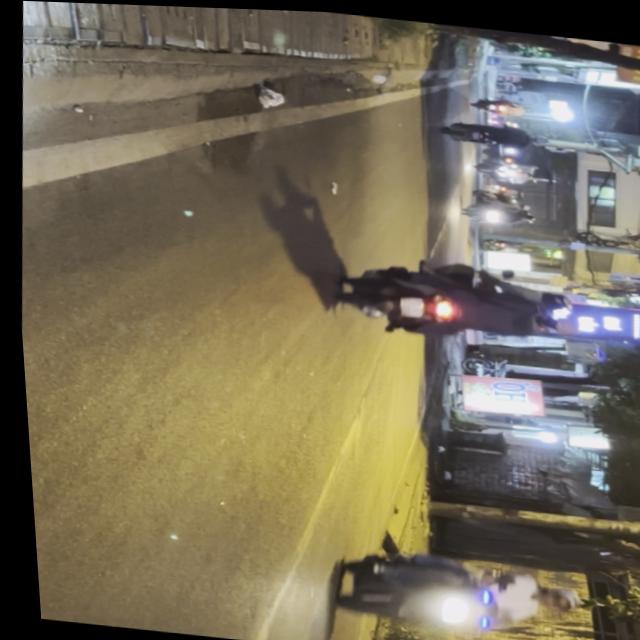helmet: (528, 583, 573, 611), (534, 309, 574, 333), (532, 294, 570, 319)
licenseplate: (317, 536, 579, 640), (325, 253, 582, 351)
nohelmet: (395, 294, 421, 316)
